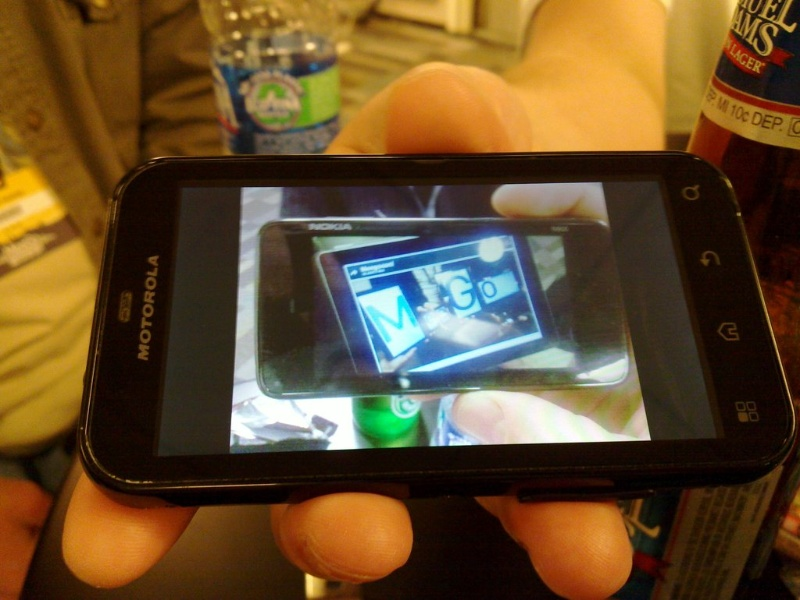cellphone: (85, 150, 798, 506)
